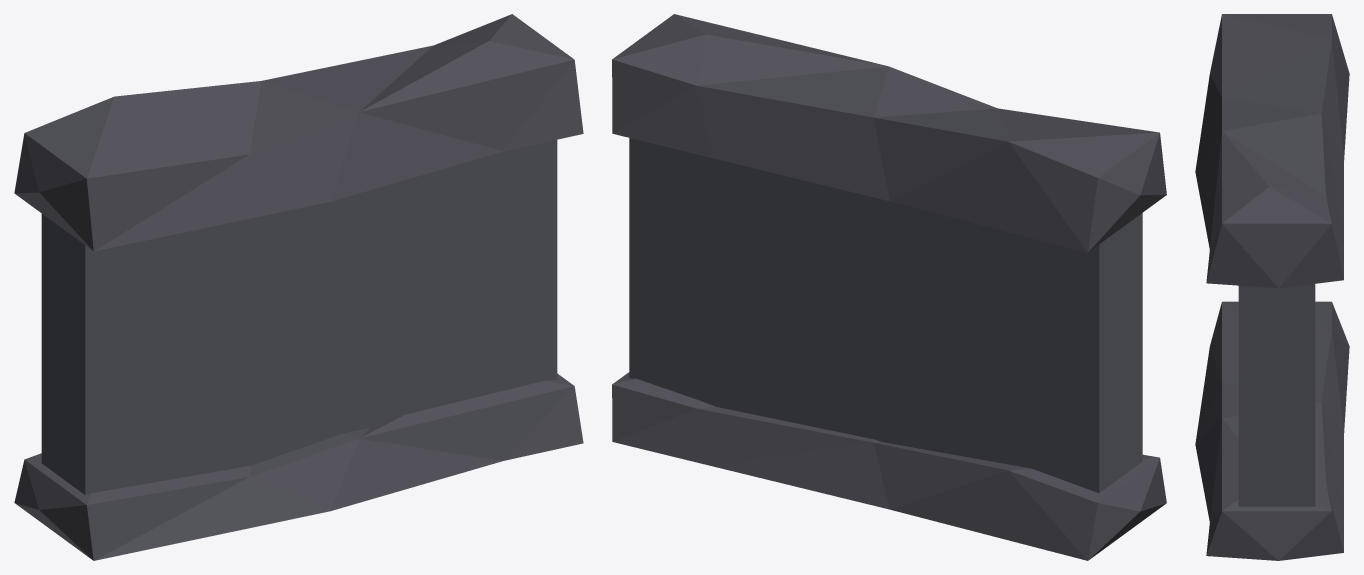
The model's file is wall.fbx.
3 views of the same model, side by side, from view 1: azimuth 30°, elevation 25°; view 2: azimuth 150°, elevation 25°; view 3: azimuth 270°, elevation 25° (orthographic). The views are drawn at different scales.
Visible parts, largest first — view 1: wall; view 2: wall; view 3: wall.
Boxes of the visible parts, x1=… form: wall: x1=14, y1=14, x2=583, y2=560; wall: x1=612, y1=14, x2=1166, y2=560; wall: x1=1195, y1=14, x2=1349, y2=560.
Size of the model in its own units: 6.99 by 5.1 by 2.07.
